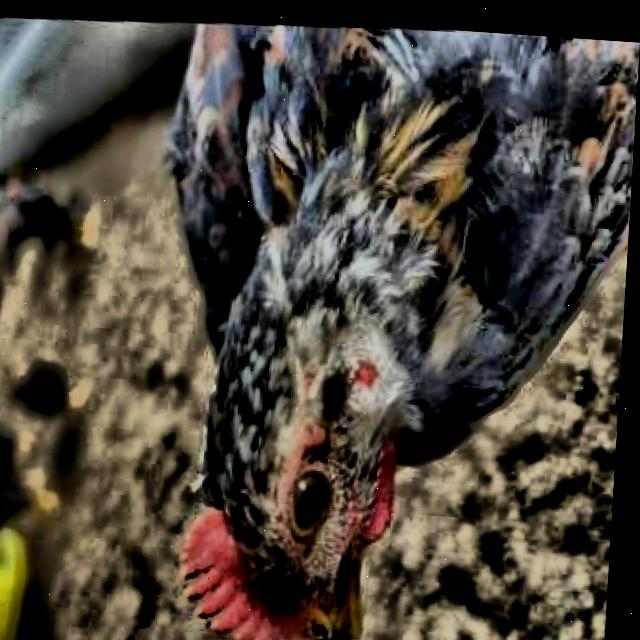Healthy: (265, 434, 366, 573)
